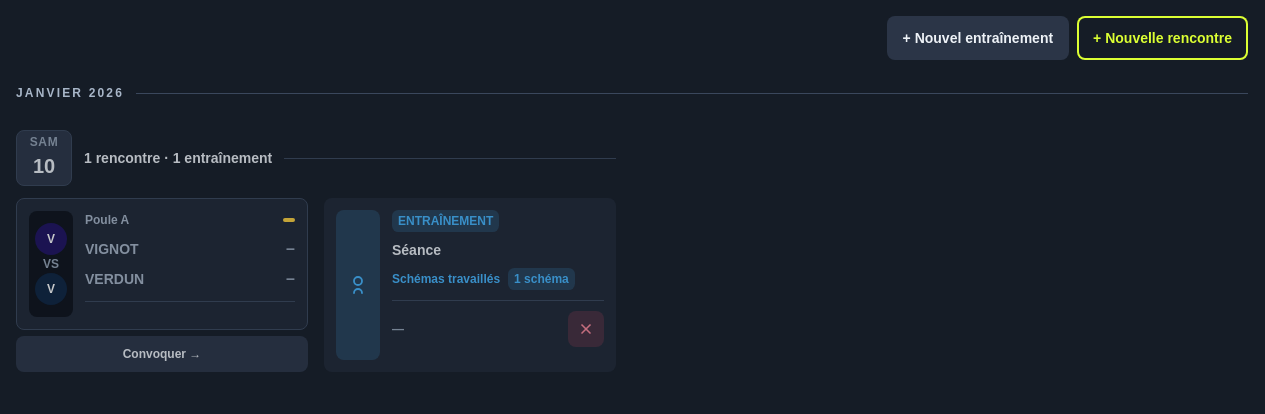
Test: Calendar — the session's plays › counts and ticks only the plays that still exist
The image size is (1265, 414).
Click the heading "Schémas travaillés 1 schéma" at point(498, 279), box [392,268,604,290]
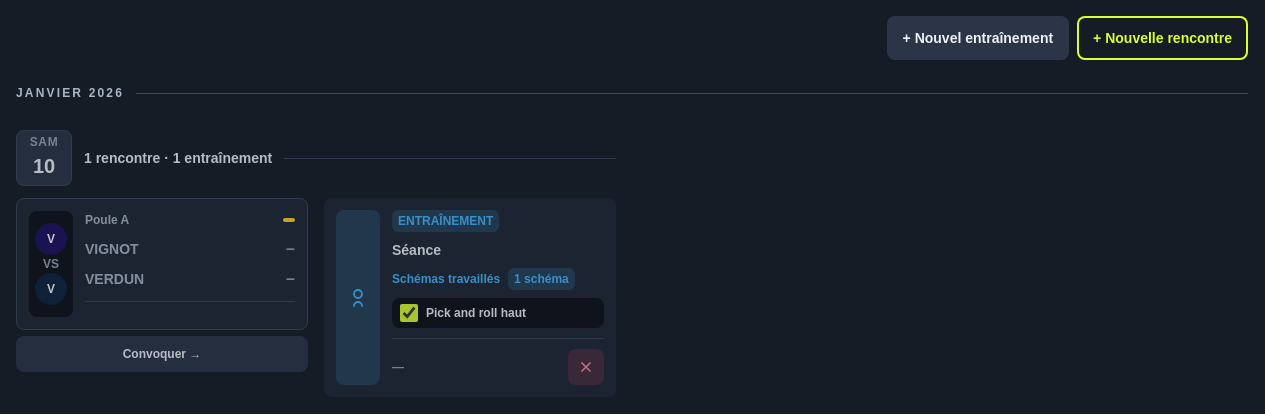
Expected: the text "1 schéma" is shown, [508,268,575,290]
Expected: the number of checkboxes is 1, [400,304,418,322]
Expected: the checkbox labelled "Pick and roll haut" is checked, [400,304,418,322]
